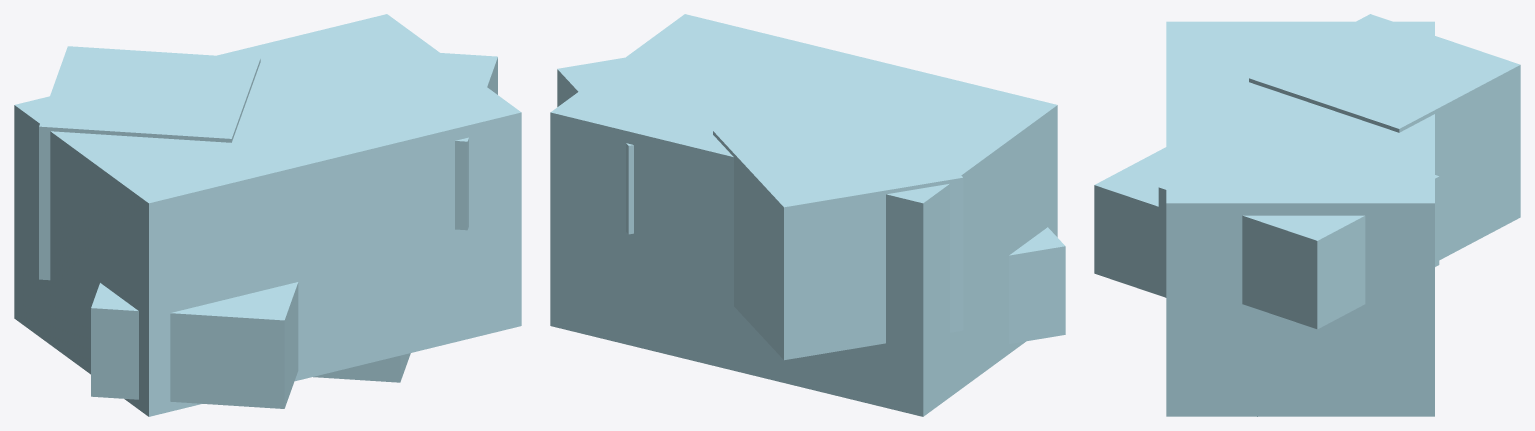
File: Cloud01.FBX
The picture shows the model from 3 angles, left to right: view 1: azimuth 30°, elevation 25°; view 2: azimuth 150°, elevation 25°; view 3: azimuth 270°, elevation 25°; orthographic projection.
Visible parts, largest first — view 1: CloudBits00, CloudBits04, CloudBits01, CloudBits03, CloudBits02; view 2: CloudBits00, CloudBits01, CloudBits04, CloudBits03; view 3: CloudBits00, CloudBits01, CloudBits03, CloudBits04.
Boxes of the visible parts, left/top/right/bottom form: CloudBits00: left=14, top=14, right=521, bottom=416; CloudBits04: left=91, top=282, right=298, bottom=408; CloudBits01: left=39, top=46, right=260, bottom=280; CloudBits03: left=441, top=53, right=497, bottom=230; CloudBits02: left=313, top=353, right=410, bottom=382; CloudBits00: left=550, top=14, right=1057, bottom=416; CloudBits01: left=713, top=101, right=963, bottom=360; CloudBits04: left=1009, top=227, right=1065, bottom=343; CloudBits03: left=557, top=57, right=633, bottom=234; CloudBits00: left=1166, top=21, right=1434, bottom=416; CloudBits01: left=1249, top=14, right=1520, bottom=260; CloudBits03: left=1158, top=175, right=1439, bottom=329; CloudBits04: left=1094, top=147, right=1166, bottom=297.
Size of the model in its own units: 54.47 by 28.04 by 44.
